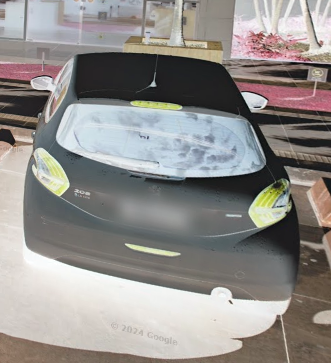car: (23, 52, 305, 321)
